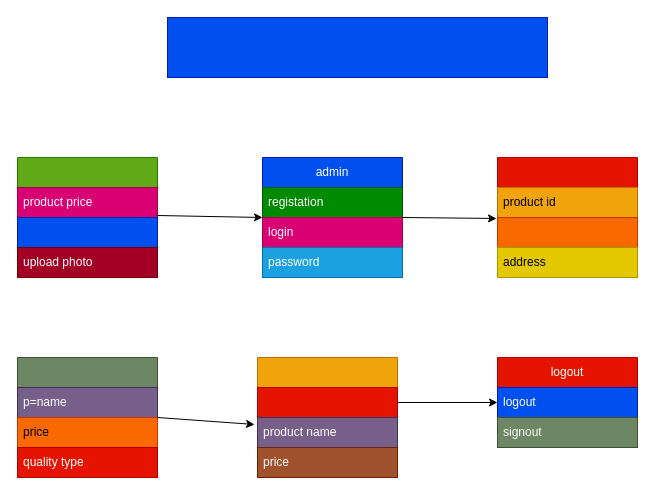
Some shapes in this 655 by 495 pixel diagram are drawn without their labels. Here are the shapes that lost their labels. From the top down, the box of each, then its label:
(166, 16, 548, 78): class diagram
(16, 156, 158, 278): add product
(16, 216, 158, 248): catacary
(496, 156, 638, 278): view order
(496, 216, 638, 248): email
(16, 356, 158, 478): view all product
(256, 386, 398, 418): product type
(256, 356, 398, 478): edit product
